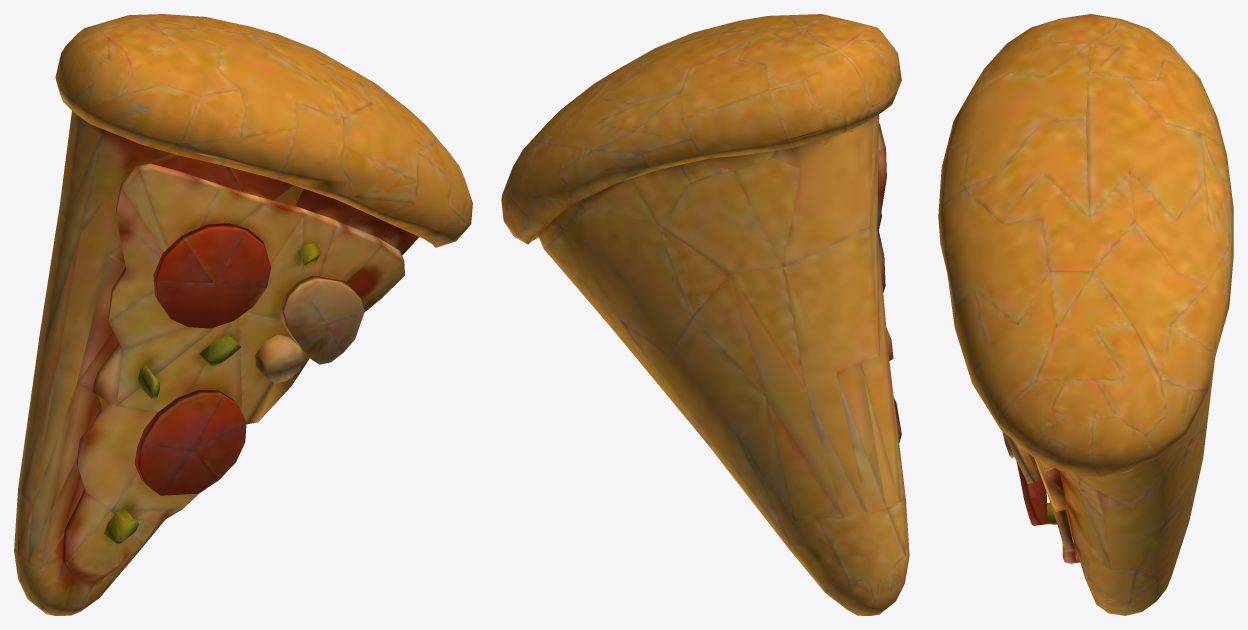
Rendered from pizza-slice.glb.
3 renders of one model, left to right at view 1: azimuth 30°, elevation 25°; view 2: azimuth 150°, elevation 25°; view 3: azimuth 270°, elevation 25°, orthographic. The views are drawn at different scales.
Parts seen in each view (by area): view 1: geometry_0; view 2: geometry_0; view 3: geometry_0.
Part boxes in pixels (<box>): geometry_0: <box>14,14,472,615</box>; geometry_0: <box>501,14,909,615</box>; geometry_0: <box>938,14,1233,615</box>.
Size of the model in its own units: 0.7632 by 0.9948 by 0.4359.
1 material, 1 textured.
